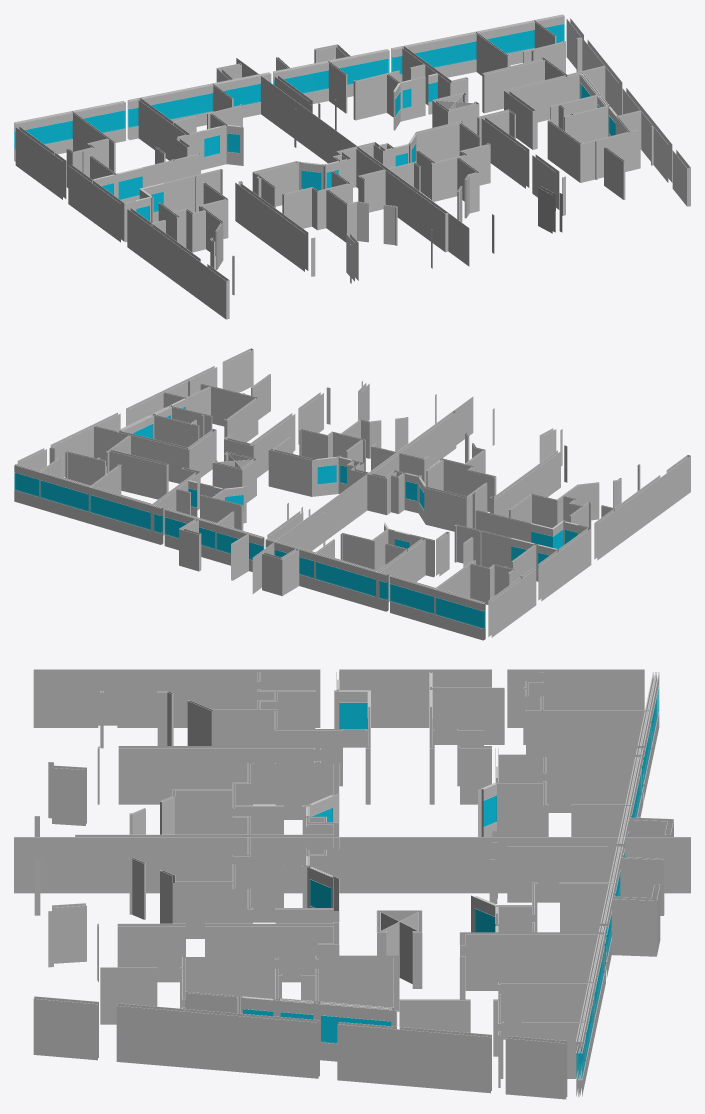
The model's file is d8df19f7-c83b-46fa-86c5-93a849b8cedc_no_roof.glb.
The picture shows the model from 3 angles, top to bottom: view 1: azimuth 30°, elevation 25°; view 2: azimuth 150°, elevation 25°; view 3: azimuth 270°, elevation 25°; orthographic projection. The views are drawn at different scales.
Visible parts, largest first — view 1: walls, windows; view 2: walls, windows; view 3: walls, windows.
Part boxes in pixels (x1,y1,x2,y2): walls: [14, 14, 690, 319]; windows: [14, 24, 615, 221]; walls: [14, 348, 690, 640]; windows: [14, 406, 577, 628]; walls: [14, 669, 690, 1099]; windows: [243, 686, 659, 1079].
Size of what is drawn, in the model's own units: 35.76 by 2.5 by 27.35.
